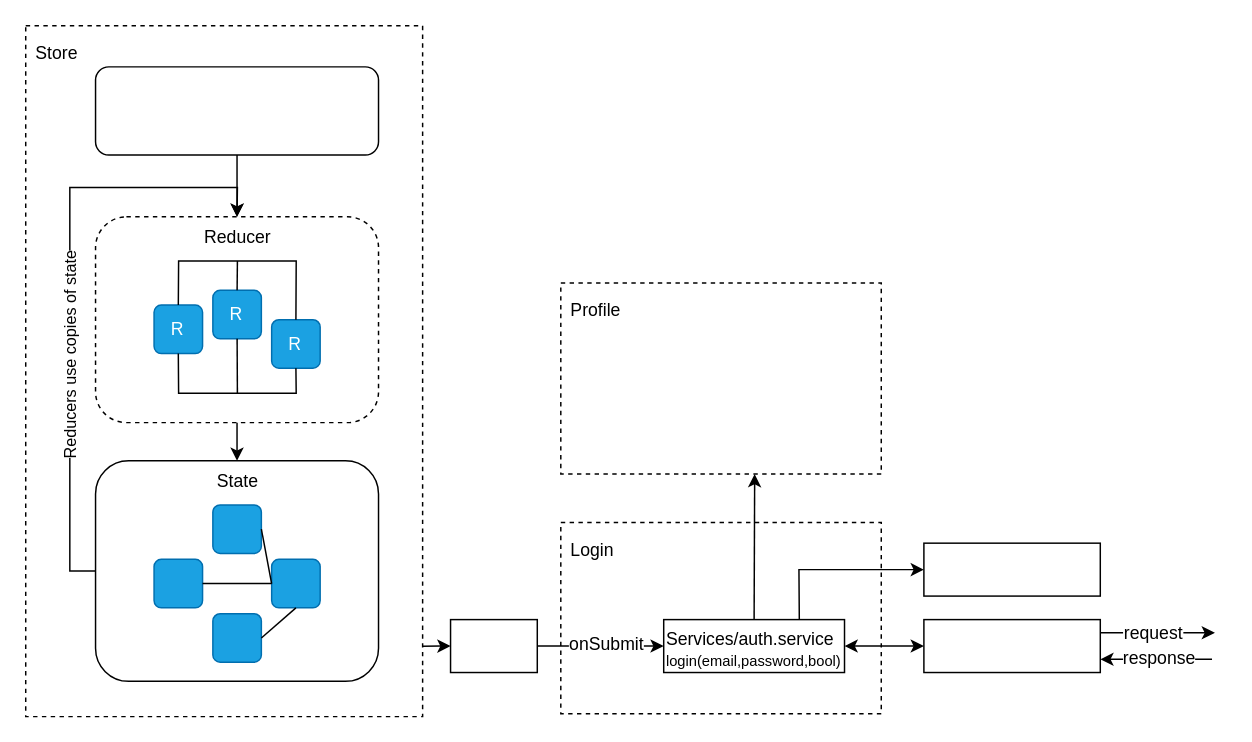
Some shapes in this 1252 by 742 pixel diagram are drawn without their labels. Each missing label, with the centre of its shape:
"Axios" belongs at (1011,645).
"Dispatcher" belongs at (236,110).
"localStorage || sessionStorage" belongs at (1011,569).
"Provider" belongs at (493,645).
